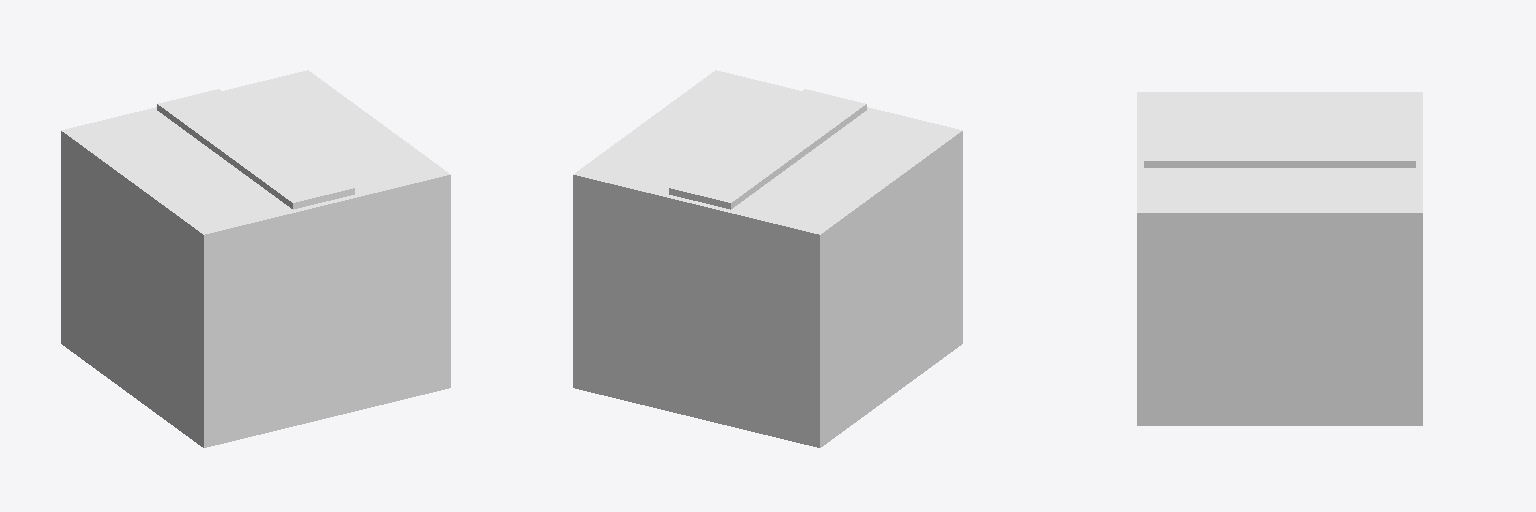
Rendered from snake_back.obj.
3 views of the same model, side by side, from view 1: azimuth 30°, elevation 25°; view 2: azimuth 150°, elevation 25°; view 3: azimuth 270°, elevation 25° (orthographic).
Visible parts, largest first — view 1: object 1; view 2: object 1; view 3: object 1.
Boxes of the visible parts, x1,y1,x2,y2 form: object 1: [61, 70, 450, 447]; object 1: [573, 70, 962, 447]; object 1: [1137, 92, 1422, 425].
Bounding box in the file's own units: 4 × 3.4 × 4.